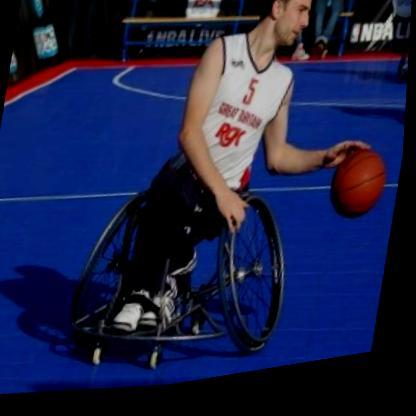basketball: (324, 149, 400, 242)
